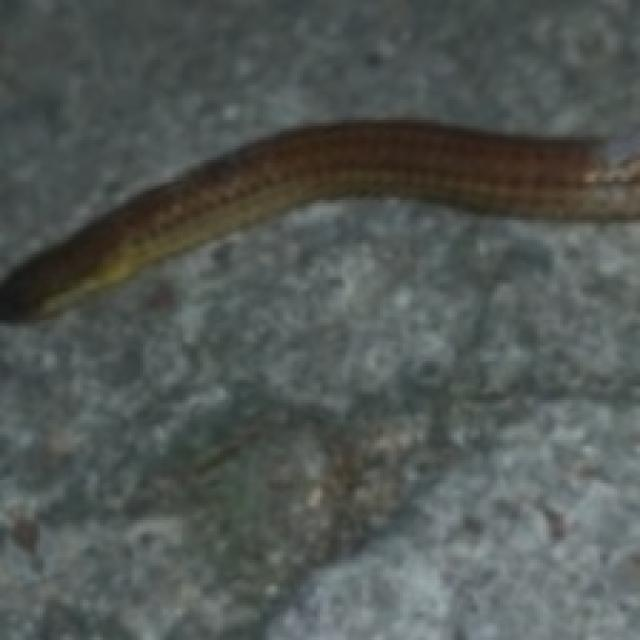gervais worm snake: (0, 120, 637, 320)
